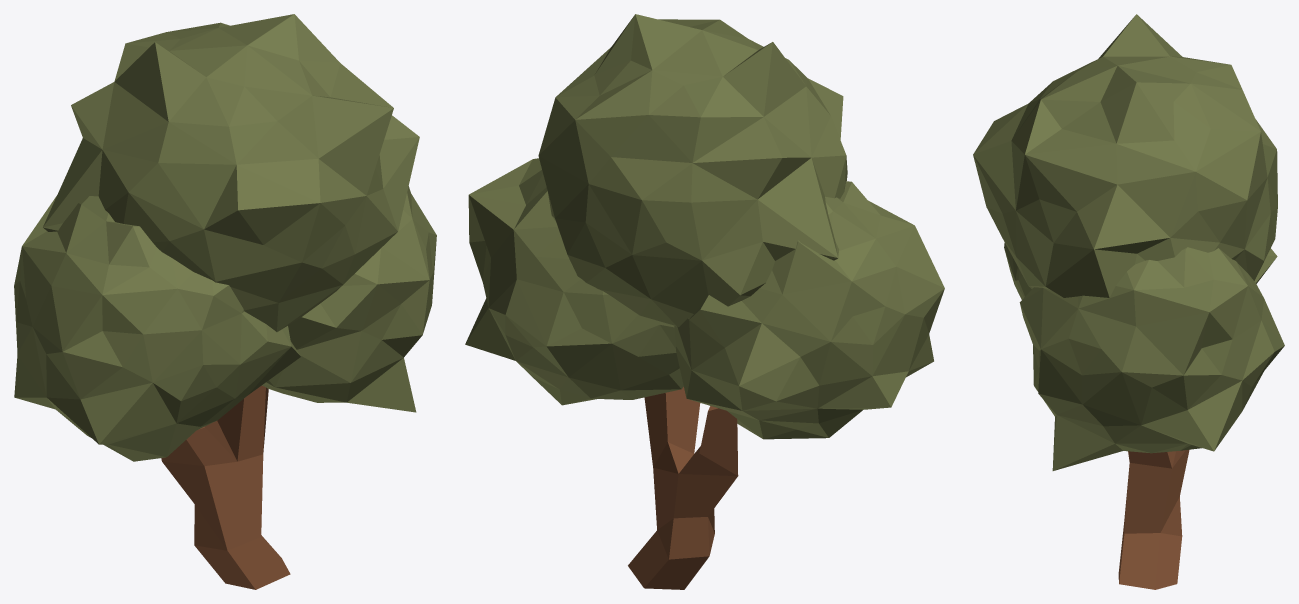
Rendered from Tree_06.fbx.
3 views of the same model, side by side, from view 1: azimuth 30°, elevation 25°; view 2: azimuth 150°, elevation 25°; view 3: azimuth 270°, elevation 25° (orthographic). The views are drawn at different scales.
Visible parts, largest first — view 1: Icosphere.012, Icosphere.013, Icosphere.011, Cylinder.015; view 2: Icosphere.012, Icosphere.013, Icosphere.011, Cylinder.015; view 3: Icosphere.012, Icosphere.011, Cylinder.015, Icosphere.013.
Boxes of the visible parts, x1,y1,x2,y2 form: Icosphere.012: (43,14,419,331); Icosphere.013: (14,196,300,461); Icosphere.011: (262,186,436,412); Cylinder.015: (161,385,290,589); Icosphere.012: (538,14,847,326); Icosphere.013: (674,181,944,439); Icosphere.011: (465,158,683,405); Cylinder.015: (628,387,738,589); Icosphere.012: (973,14,1277,297); Icosphere.011: (1019,247,1284,470); Cylinder.015: (1118,449,1189,589); Icosphere.013: (1004,243,1277,299).
Size of the model in its own units: 234 by 306 by 165.
